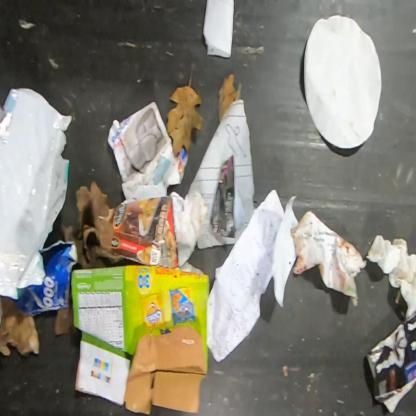cardboard: (70, 263, 210, 415), (75, 181, 207, 268), (0, 296, 40, 358)
soft_plastic: (0, 89, 72, 302)
